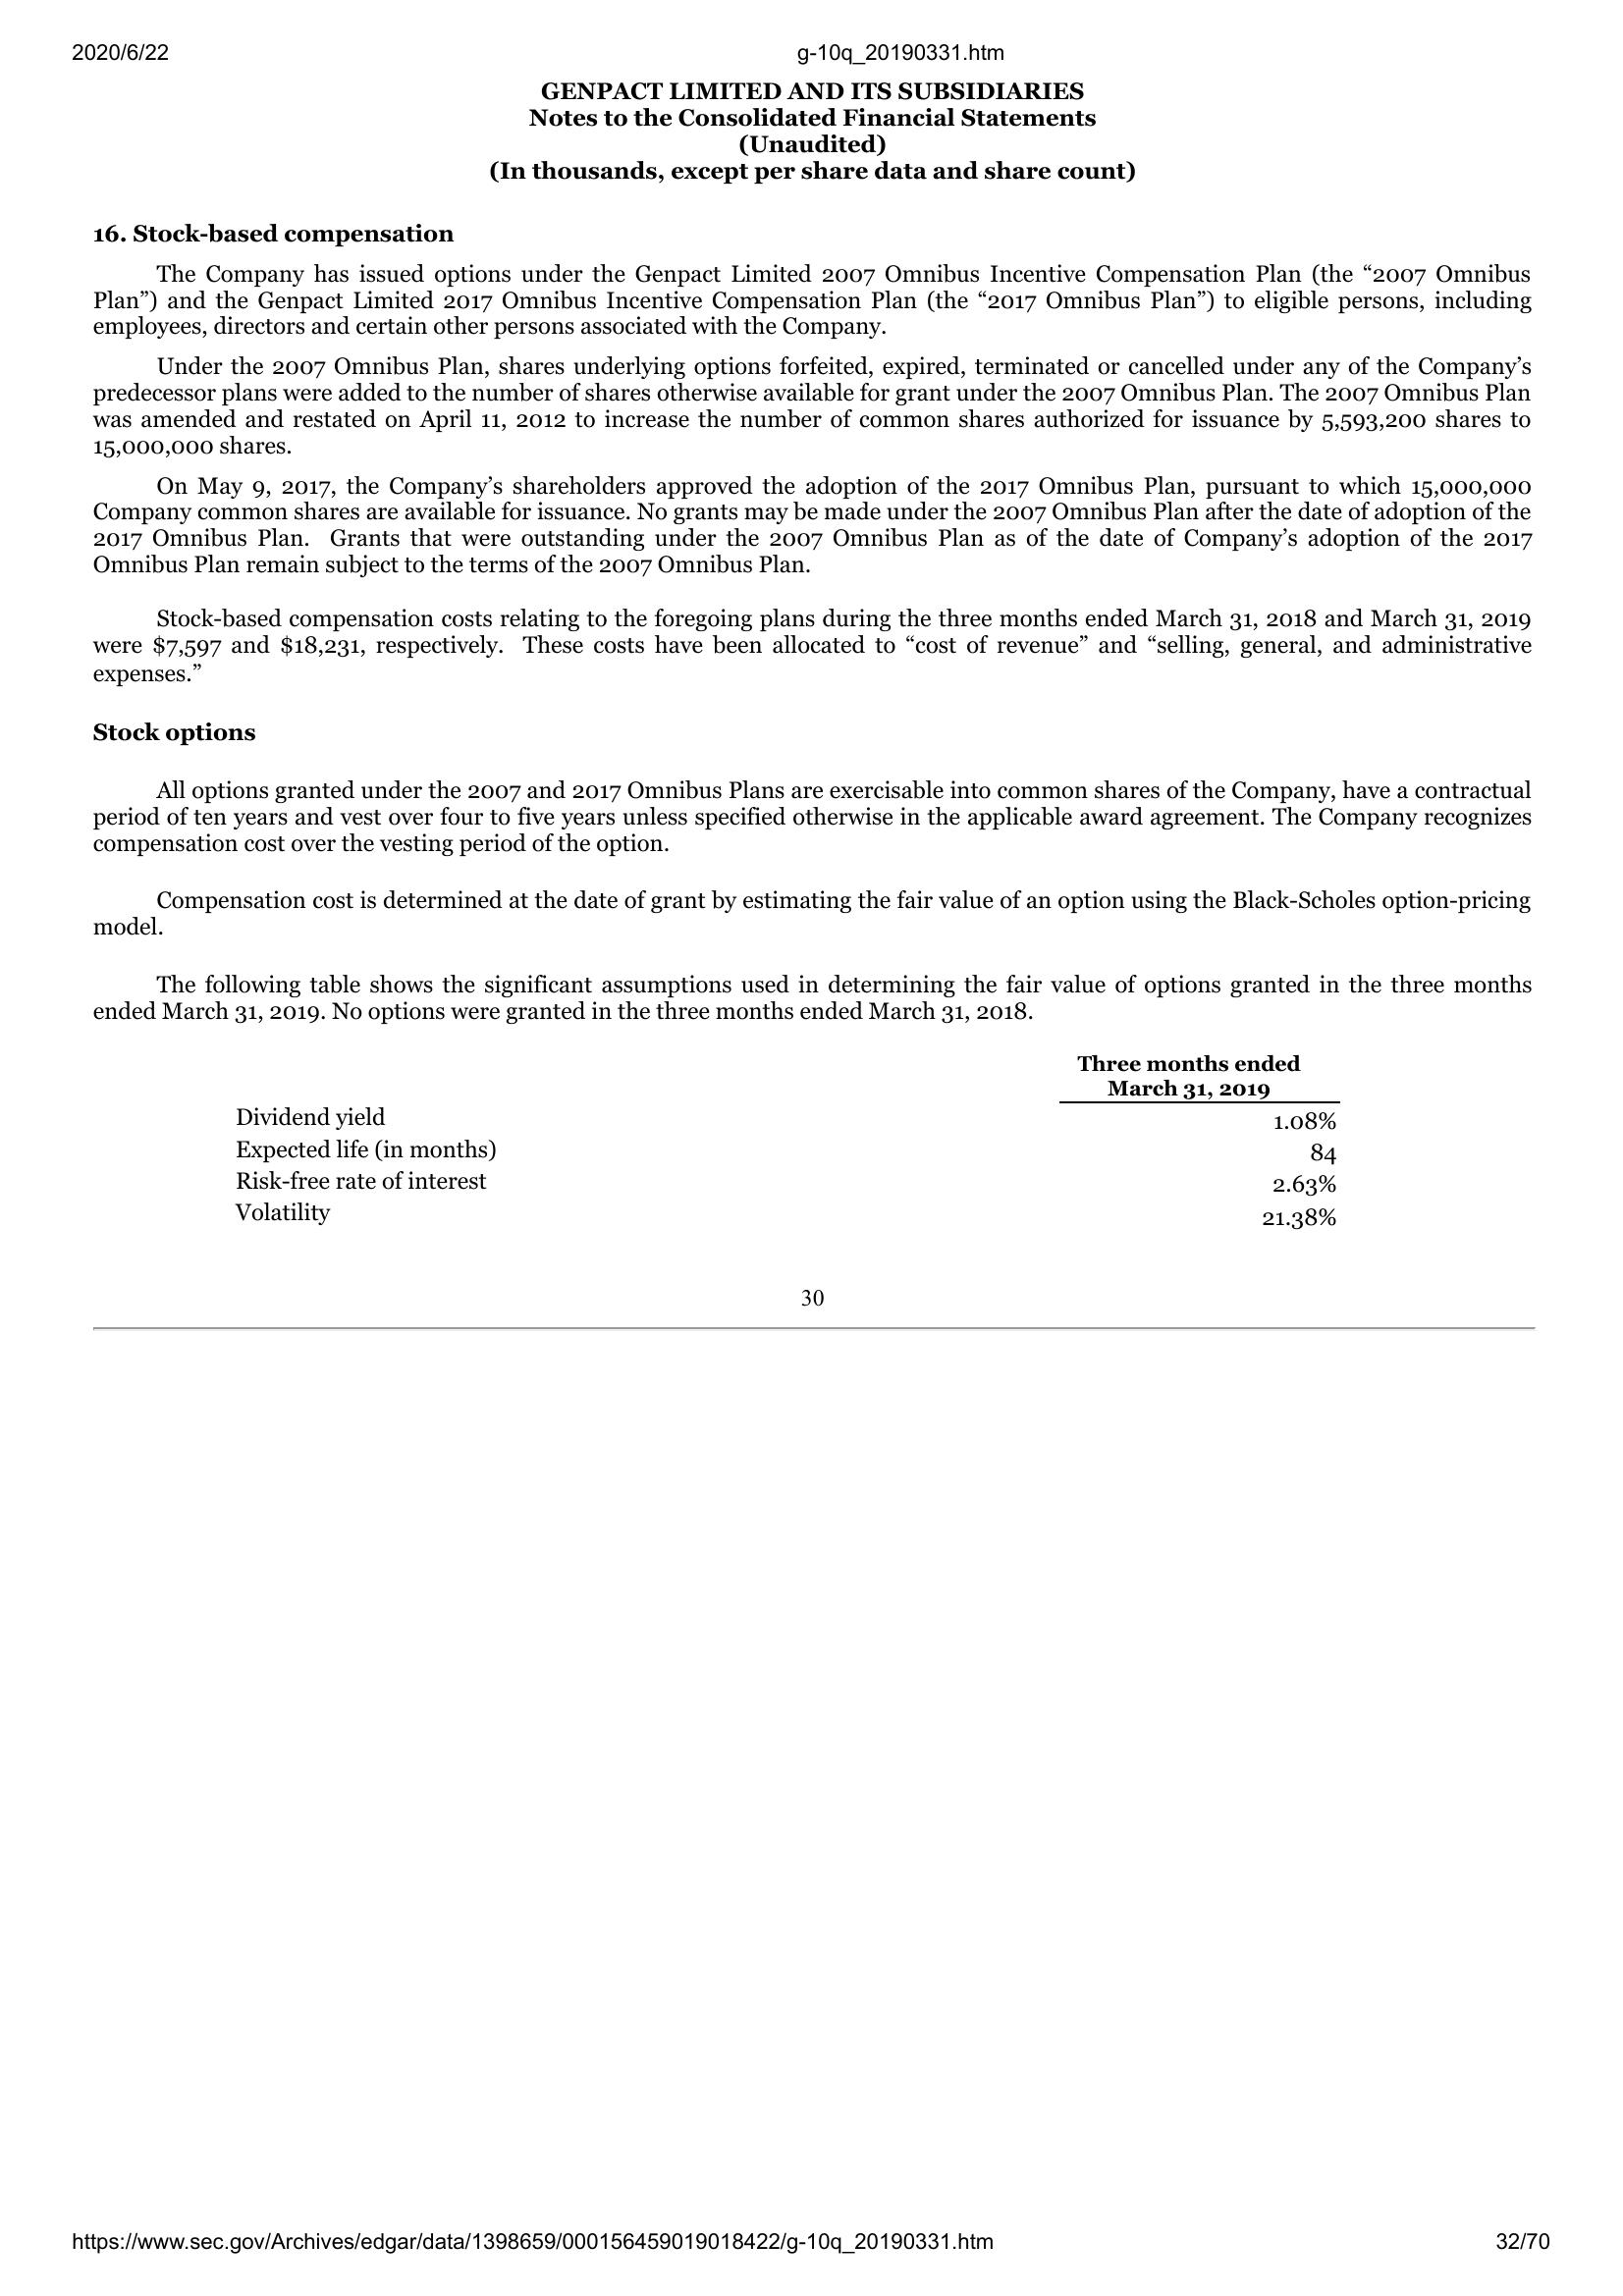table: (232, 1044, 1344, 1236)
